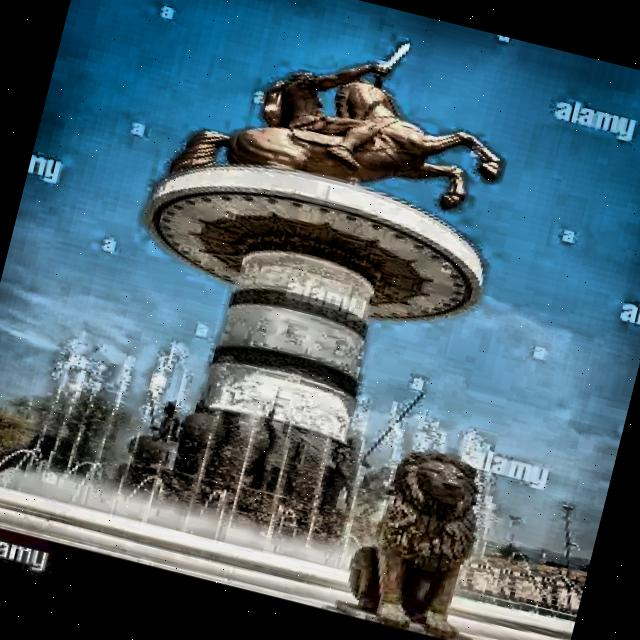alexander the great monument: (47, 0, 553, 616)
